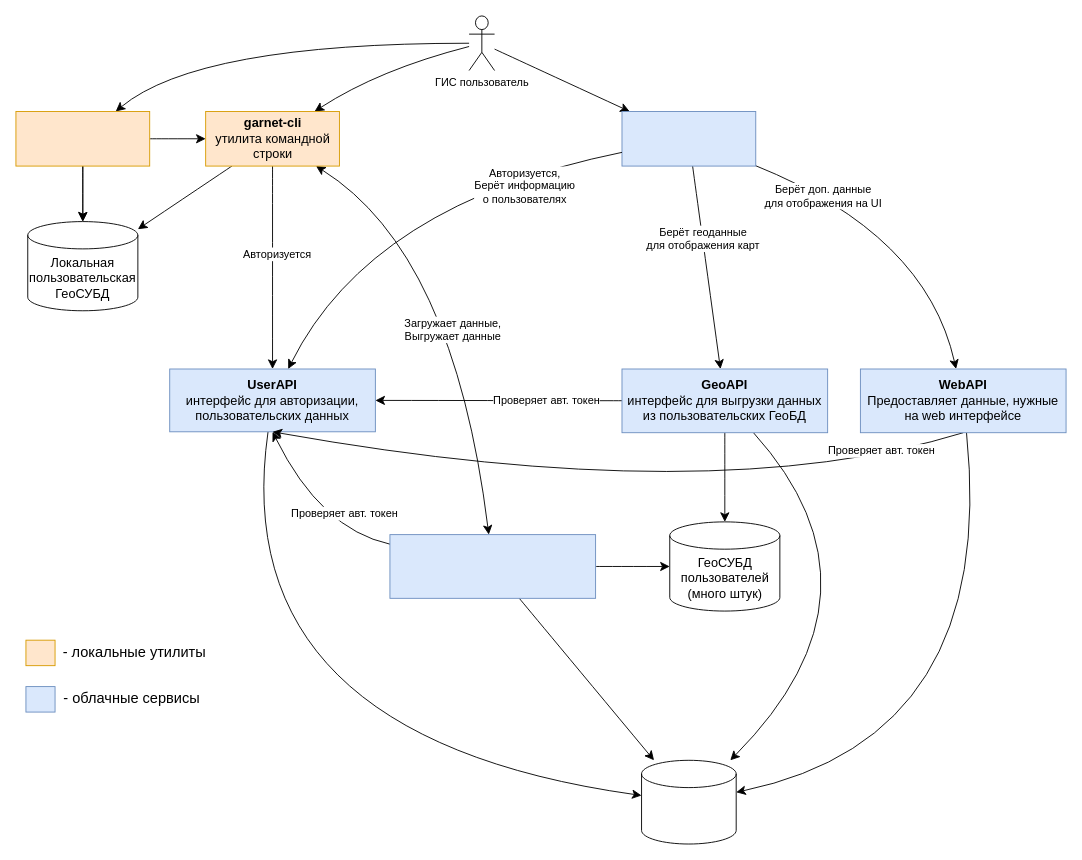
The diagram is 1082 pixels wide and 860 high, and some of its shapes have lost their labels. The shapes that lost their labels are listed below. From the top down, each one's box as (x1, y1, x2, y2) in pixels, then its label:
(15, 111, 150, 166): QGIS Plugin плагин для QGIS
(621, 111, 756, 166): Web интерфейс
(389, 534, 596, 598): ChunkStorageAPI интерфейс для загрузки/выгрузки пользовательских ГеоБД
(641, 759, 736, 844): База данных PostgreSQL
